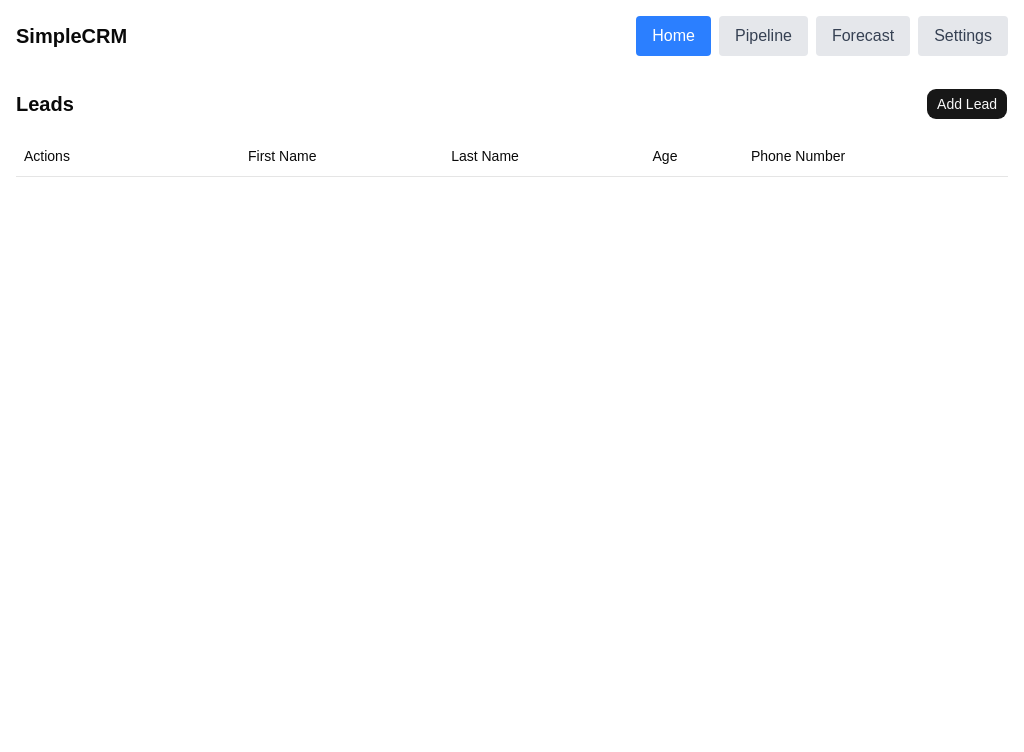
Scenario: App › shows the settings page when Settings is clicked
What coordinates should you click on to do the following:
click the button "Settings"
I would click on:
 (963, 36)
Its box is [918,16,1008,56].
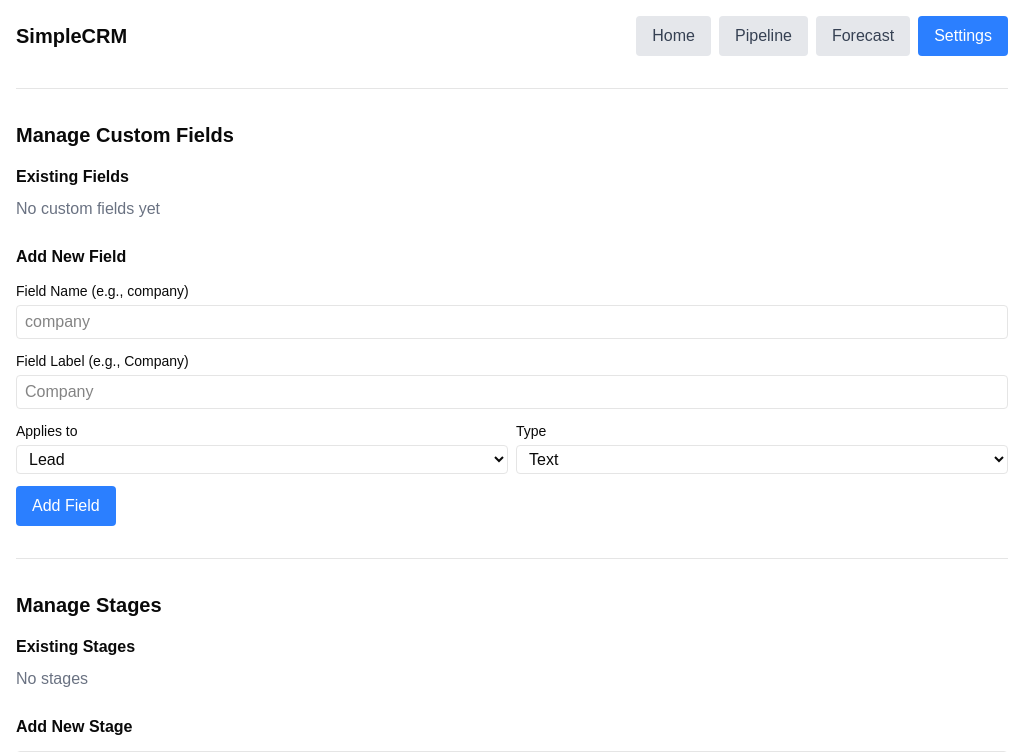
Result: the heading "Manage Custom Fields" is shown at [16,124,234,146]
